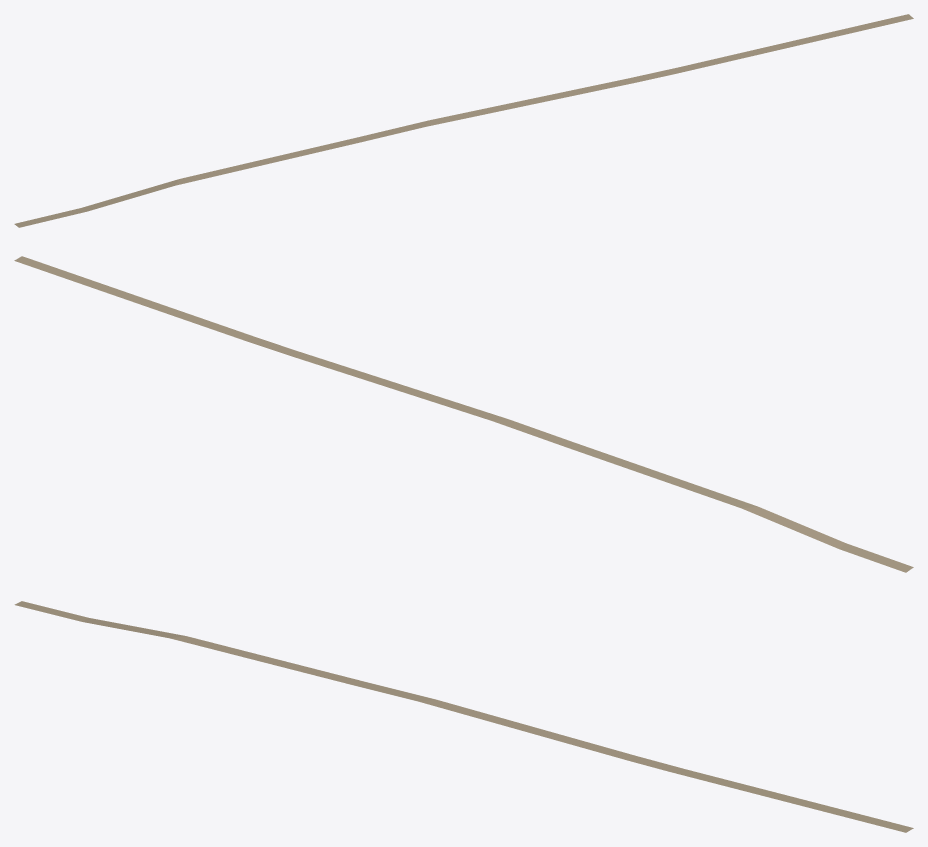
The model's file is farm_19_39_track.glb.
3 renders of one model, top to bottom at view 1: azimuth 30°, elevation 25°; view 2: azimuth 150°, elevation 25°; view 3: azimuth 330°, elevation 25°, orthographic. The views are drawn at different scales.
Parts seen in each view (by area): view 1: geometry_0; view 2: geometry_0; view 3: geometry_0.
Part boxes in pixels (x1=…): geometry_0: x1=14, y1=14, x2=913, y2=227; geometry_0: x1=14, y1=256, x2=913, y2=572; geometry_0: x1=14, y1=601, x2=913, y2=832.
Size of the model in its own units: 261 by 11.19 by 28.69.
